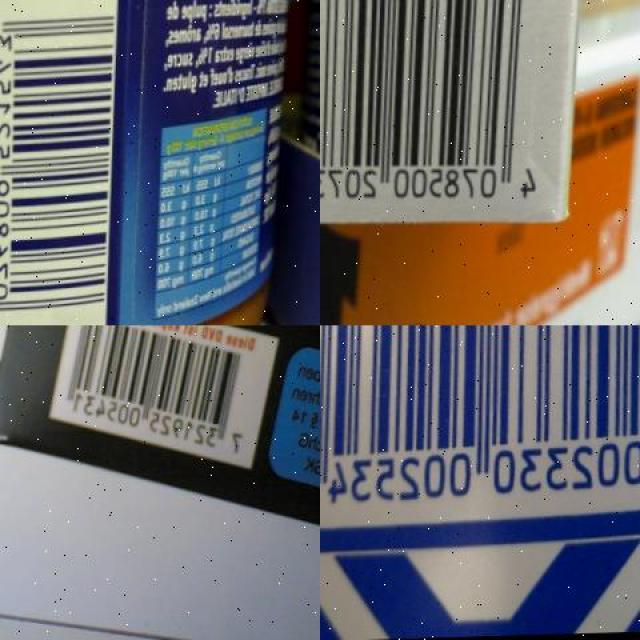Barcode: (320, 326, 640, 554), (320, 0, 564, 219), (0, 0, 117, 325), (46, 325, 282, 475)
